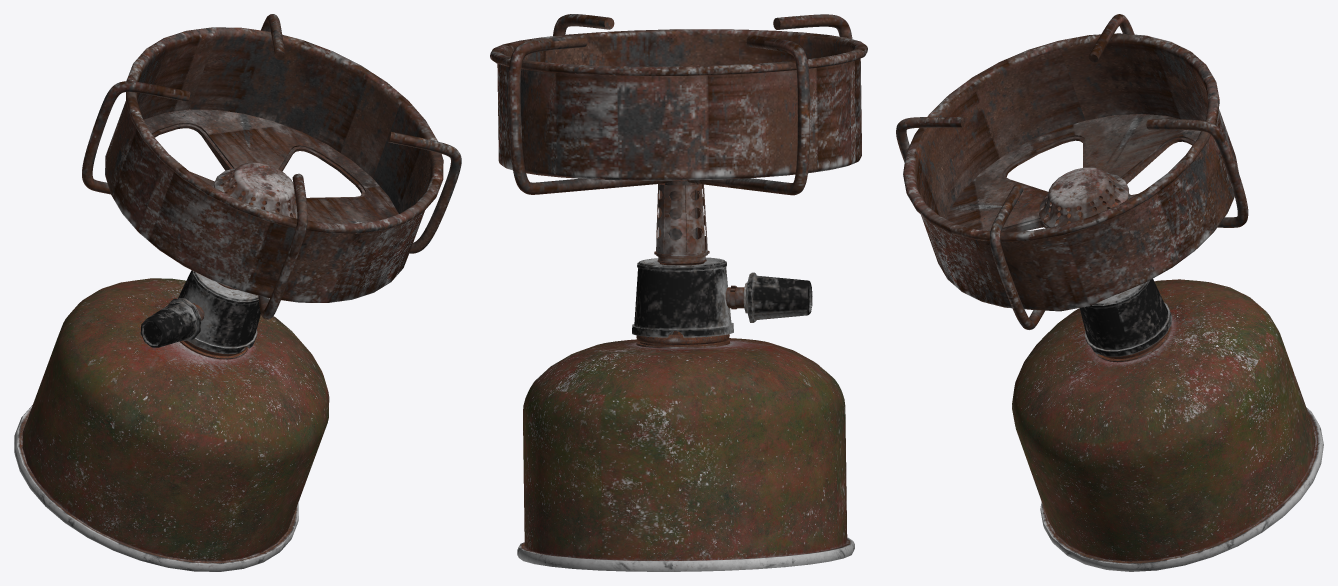
3 views of the same model, side by side, from view 1: azimuth 30°, elevation 25°; view 2: azimuth 150°, elevation 25°; view 3: azimuth 270°, elevation 25° (orthographic). The views are drawn at different scales.
Parts seen in each view (by area): view 1: MainFrame_low; view 2: MainFrame_low; view 3: MainFrame_low.
Boxes of the visible parts, bbox=[...] form: MainFrame_low: bbox=[14, 14, 461, 571]; MainFrame_low: bbox=[490, 14, 867, 571]; MainFrame_low: bbox=[896, 14, 1323, 571].
Bounding box in the file's own units: 274 × 376 × 305.
Materials: 5 (5 with a texture image).
